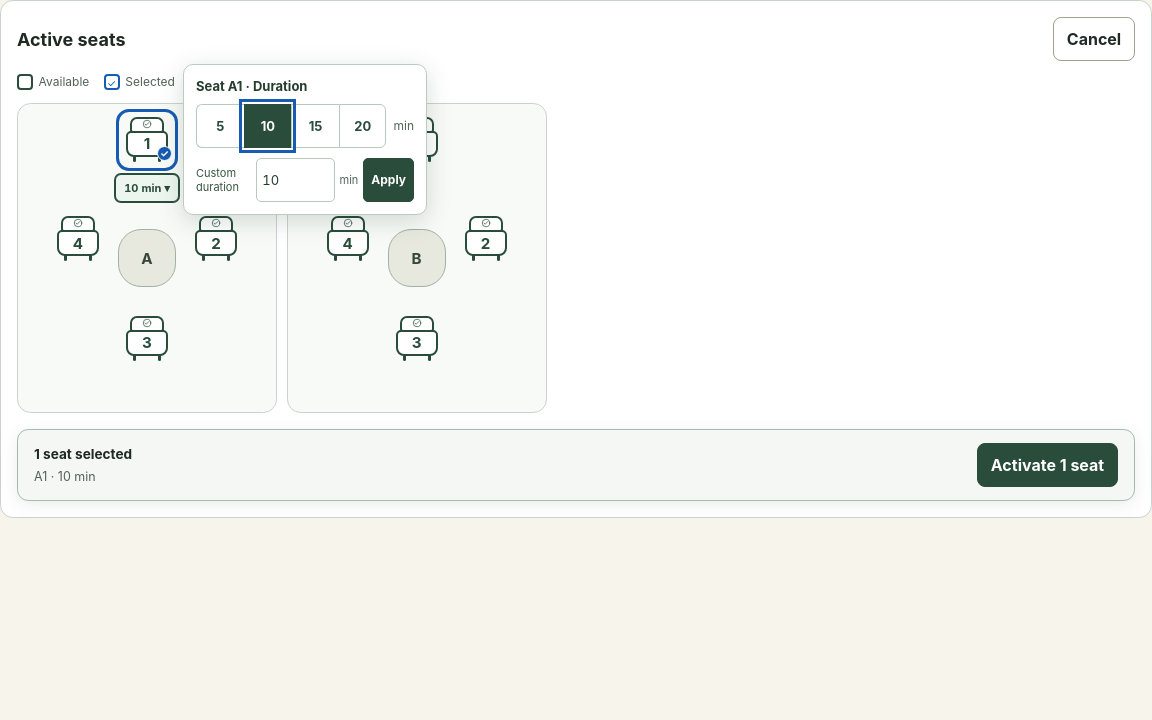
Test: activates six real seats without checkout or payment calls and deduplicates confirmation
Earlier steps of the test are not shown.
Click the button named "Table A · Seat 2" at (216,239), box 190,213 -> 242,265
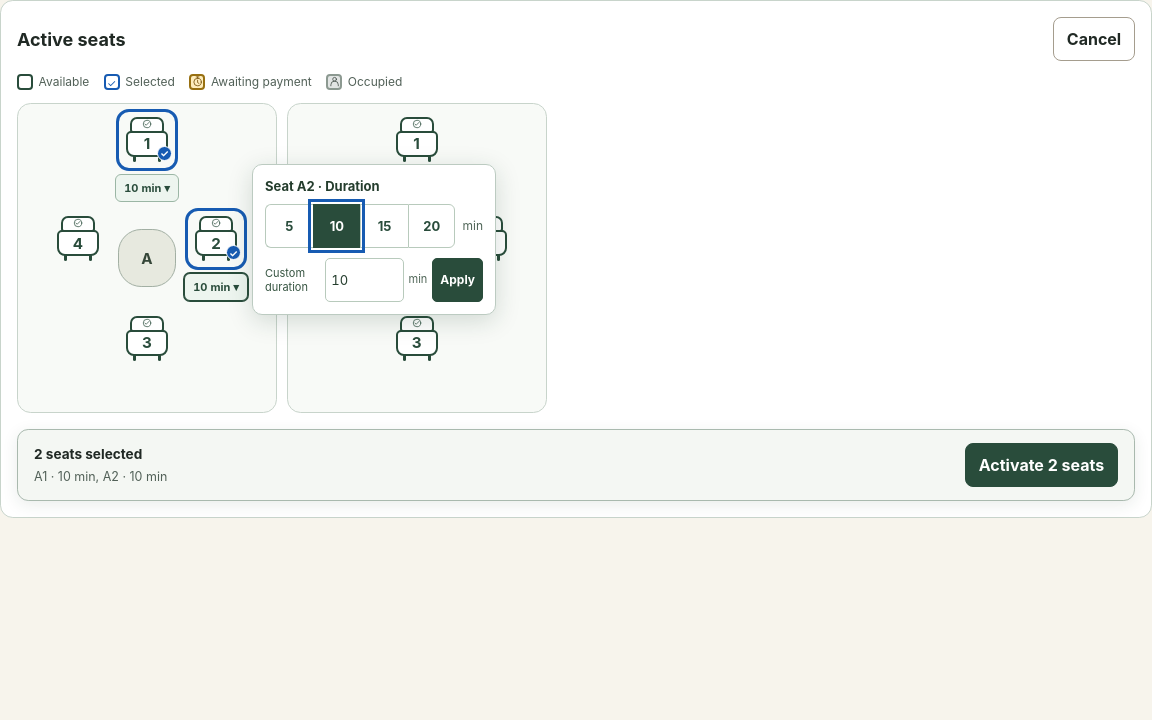
Click the button named "Table A · Seat 3" at (147,339), box 121,313 -> 173,365
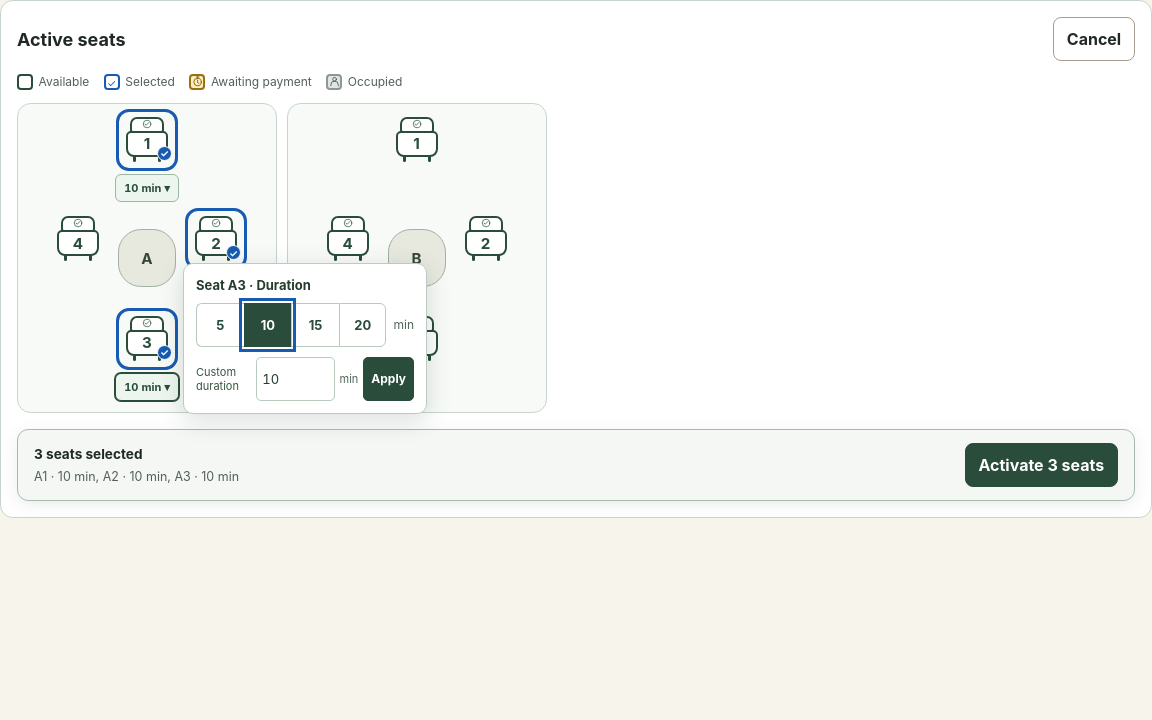
Click the button named "Table A · Seat 4" at (78,239), box 52,213 -> 104,265
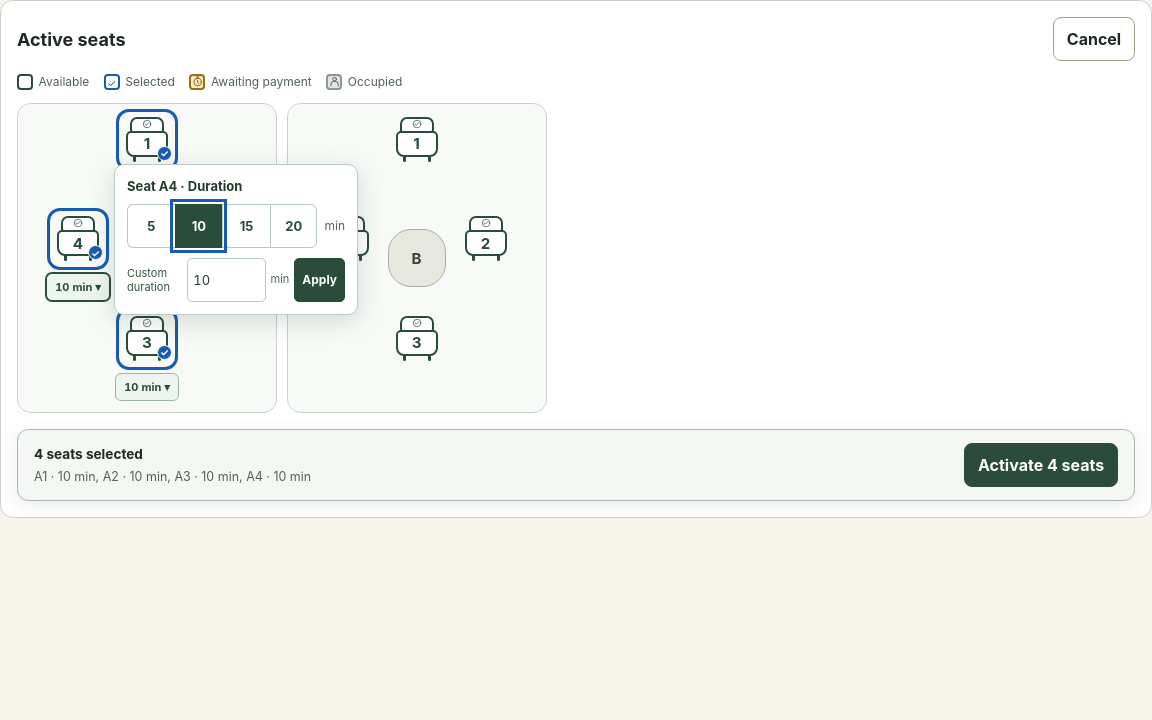
Click the button named "Table B · Seat 1" at (417,140), box 391,114 -> 443,166
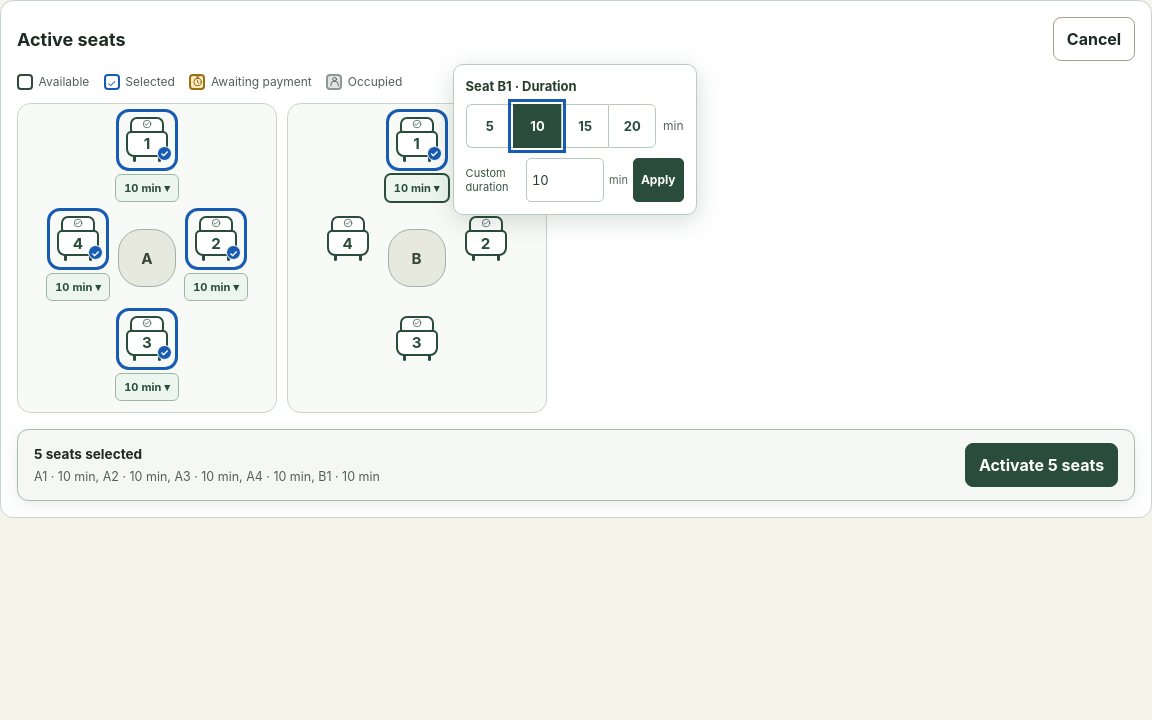
Click the button named "Table B · Seat 2" at (486,239), box 460,213 -> 512,265
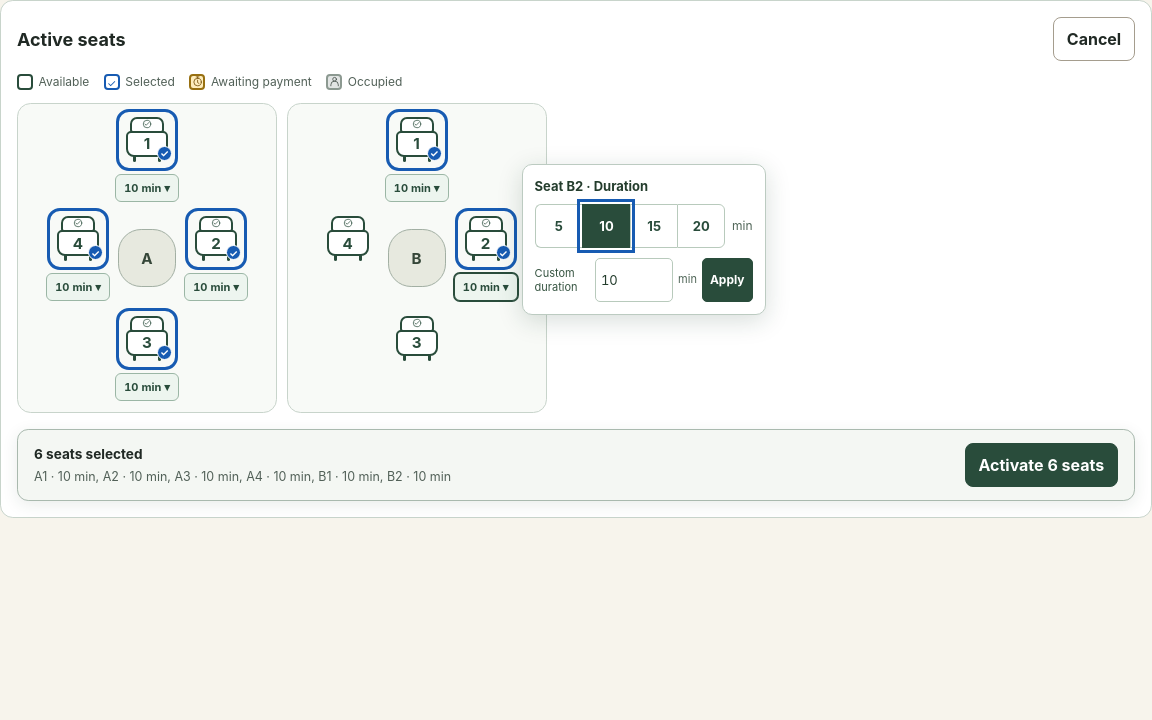
Double-click the button "Activate 6 seats" at (1041,465), box 965,443 -> 1118,487
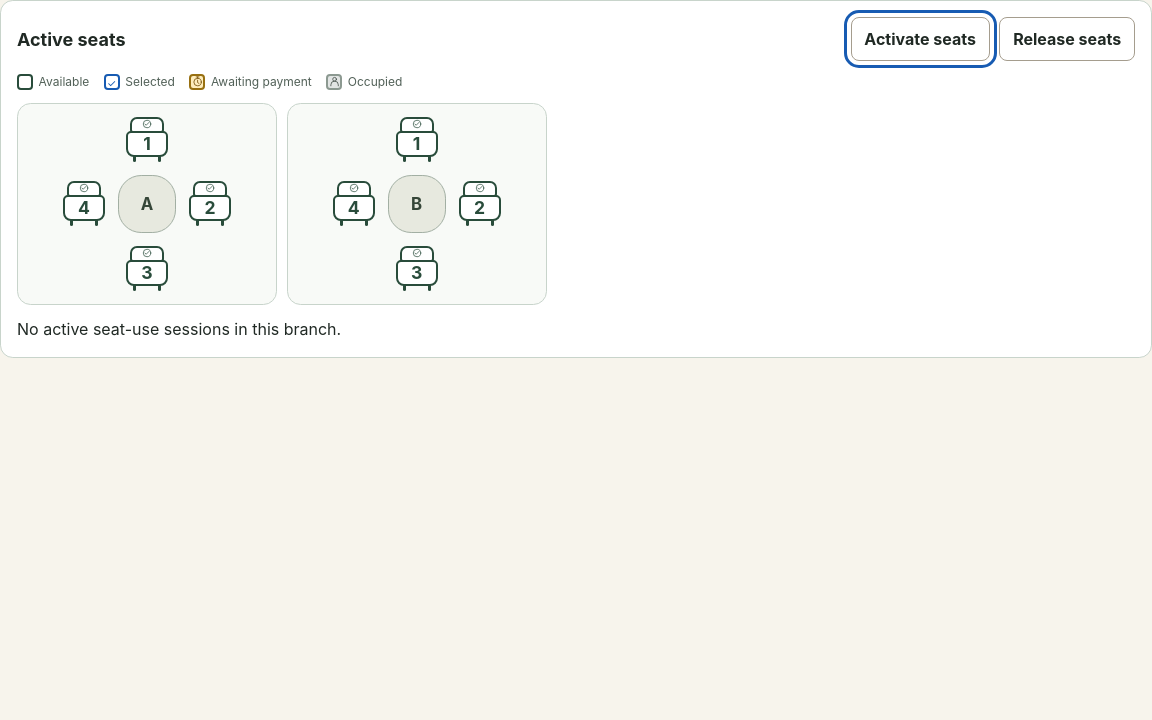
Now the button "Release seats" is shown, box 999,17 -> 1135,61
